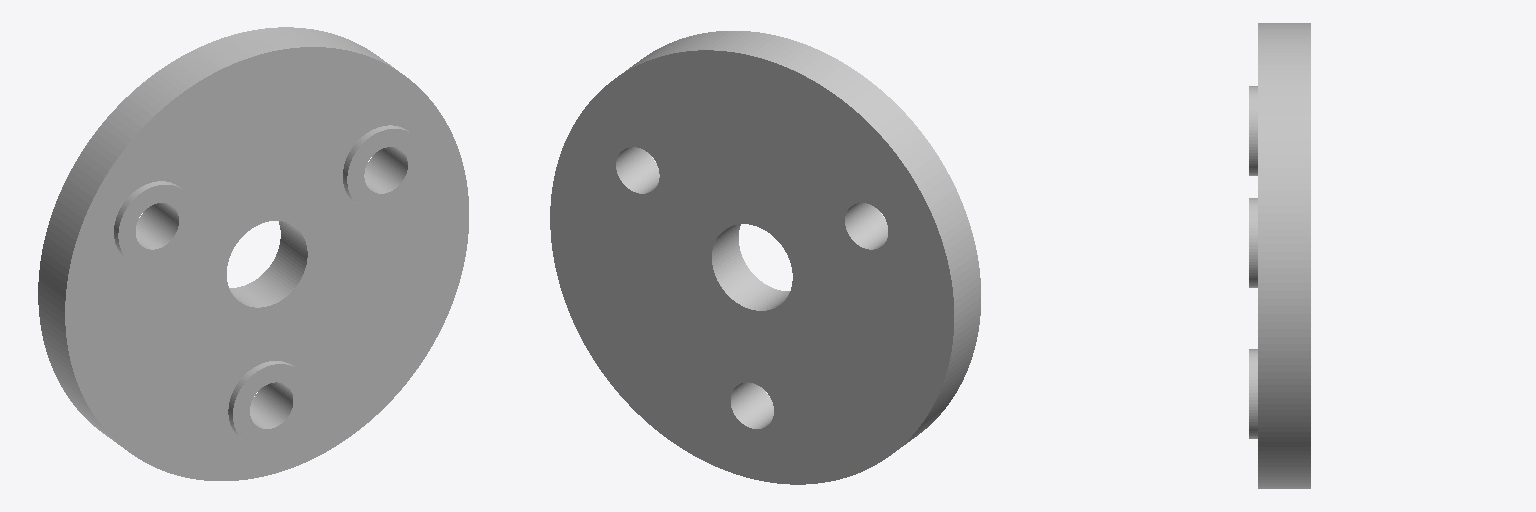
Rendered from Carrier Cap.obj.
3 renders of one model, left to right at view 1: azimuth 30°, elevation 25°; view 2: azimuth 150°, elevation 25°; view 3: azimuth 270°, elevation 25°, orthographic.
Parts seen in each view (by area): view 1: Body1; view 2: Body1; view 3: Body1.
Part boxes in pixels (left/top/right/bottom): Body1: left=38, top=27, right=468, bottom=480; Body1: left=550, top=31, right=980, bottom=484; Body1: left=1249, top=23, right=1310, bottom=488.
Size of the model in its own units: 26 by 26 by 3.5.